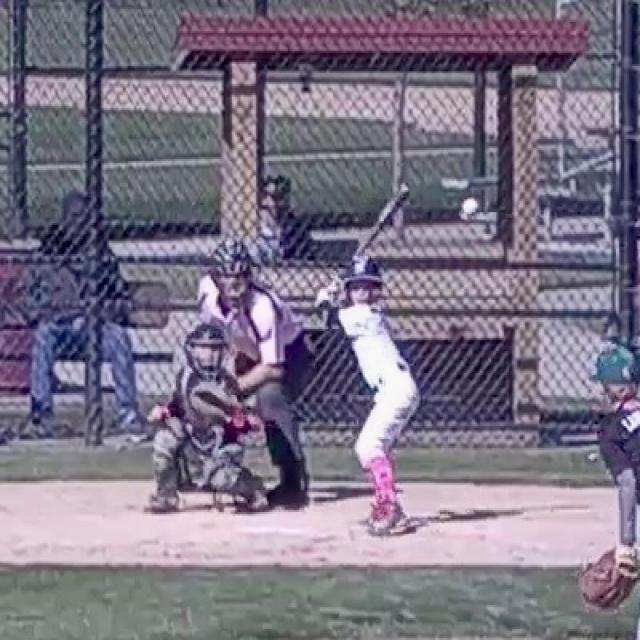baseball: (464, 199, 476, 213)
